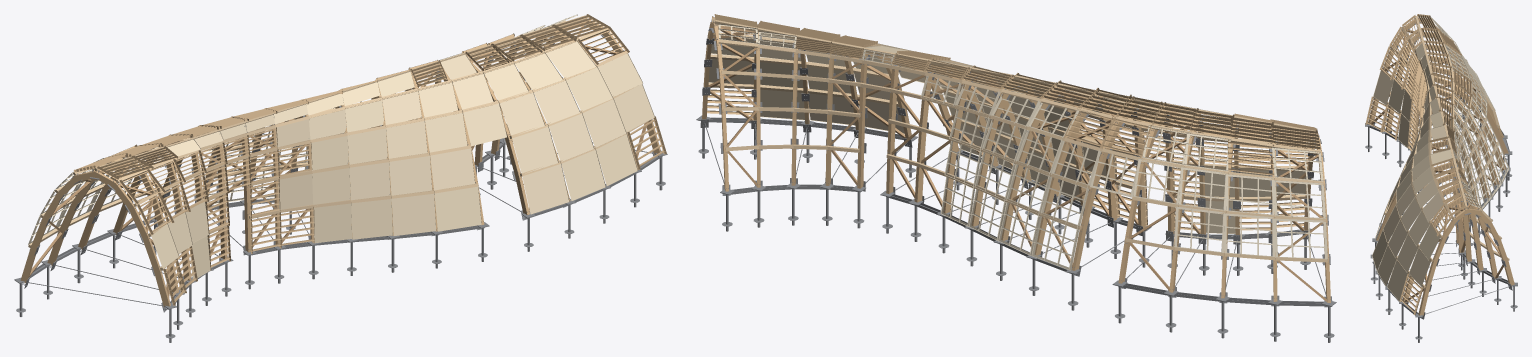
The model's file is pavilion_after.glb.
3 views of the same model, side by side, from view 1: azimuth 30°, elevation 25°; view 2: azimuth 150°, elevation 25°; view 3: azimuth 270°, elevation 25° (orthographic). The views are drawn at different scales.
Parts seen in each view (by area): view 1: P2_루버패널|0, P2_루버패널|5, F1_리브|0, P2_루버패널|3, P2_루버패널|1, P2_루버패널|15, P1_막힌패널|10|3, P1_막힌패널|9|4, P1_막힌패널|12|3, P1_막힌패널|10|2, P1_막힌패널|8|4, P1_막힌패널|13|3 (+60 smaller); view 2: P2_루버패널|1, P2_루버패널|5, P3_격자패널|6, P3_격자패널|0, P3_격자패널|7, P3_격자패널|2, P3_격자패널|8, P3_격자패널|5, P2_루버패널|4, P2_루버패널|0, F1_리브|5, P2_루버패널|3 (+59 smaller); view 3: P2_루버패널|1, F1_리브|16, P2_루버패널|0, P2_루버패널|3, P2_루버패널|15, P3_격자패널|6, P3_격자패널|7, F1_리브|15, P3_격자패널|5, P2_루버패널|2, P2_루버패널|4, P2_루버패널|5 (+73 smaller).
Boxes of the visible parts, x1,y1,x2,y2 form: P2_루버패널|0: (73, 153, 186, 305); P2_루버패널|5: (232, 108, 281, 253); F1_리브|0: (20, 171, 170, 307); P2_루버패널|3: (172, 125, 230, 269); P2_루버패널|1: (90, 143, 197, 292); P2_루버패널|15: (554, 14, 666, 169); P1_막힌패널|10|3: (434, 185, 481, 231); P1_막힌패널|9|4: (391, 192, 436, 235); P1_막힌패널|12|3: (522, 162, 569, 214); P1_막힌패널|10|2: (430, 147, 475, 190); P1_막힌패널|8|4: (351, 198, 392, 239); P1_막힌패널|13|3: (561, 148, 605, 200); P2_루버패널|1: (1228, 113, 1274, 230); P2_루버패널|5: (1063, 88, 1147, 225); P3_격자패널|6: (998, 99, 1079, 255); P3_격자패널|0: (1272, 147, 1327, 260); P3_격자패널|7: (969, 89, 1040, 241); P3_격자패널|2: (1174, 133, 1230, 253); P3_격자패널|8: (940, 84, 1000, 226); P3_격자패널|5: (1031, 141, 1101, 270); P2_루버패널|4: (1102, 94, 1173, 159); P2_루버패널|0: (1270, 119, 1320, 227); F1_리브|5: (1071, 103, 1145, 270); P2_루버패널|3: (1153, 101, 1205, 230); P2_루버패널|1: (1382, 28, 1461, 140); F1_리브|16: (1418, 208, 1514, 315); P2_루버패널|0: (1365, 14, 1437, 132); P2_루버패널|3: (1407, 51, 1451, 151); P2_루버패널|15: (1399, 192, 1465, 314); P3_격자패널|6: (1450, 93, 1501, 196); P3_격자패널|7: (1454, 106, 1492, 209); F1_리브|15: (1402, 195, 1498, 302); P3_격자패널|5: (1470, 96, 1509, 183); P2_루버패널|2: (1403, 40, 1448, 98); P2_루버패널|4: (1418, 62, 1472, 116); P2_루버패널|5: (1419, 72, 1472, 125).
Size of the model in its own units: 21.24 by 5.36 by 6.09.
